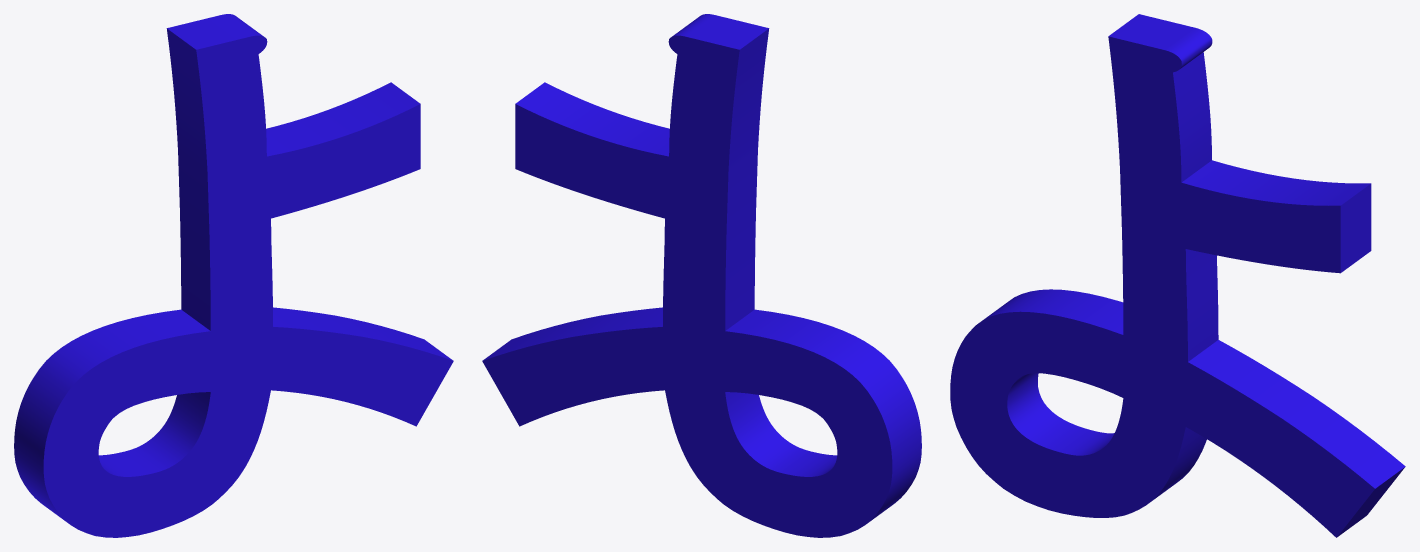
3 views of the same model, side by side, from view 1: azimuth 30°, elevation 25°; view 2: azimuth 150°, elevation 25°; view 3: azimuth 330°, elevation 25° (orthographic). The views are drawn at different scales.
Visible parts, largest first — view 1: yo; view 2: yo; view 3: yo.
Boxes of the visible parts, box(x1,y1,x2,y2) form: yo: box(14, 14, 453, 537); yo: box(482, 14, 921, 537); yo: box(950, 14, 1405, 537).
Size of the model in its own units: 80.13 by 88.02 by 9.98.
